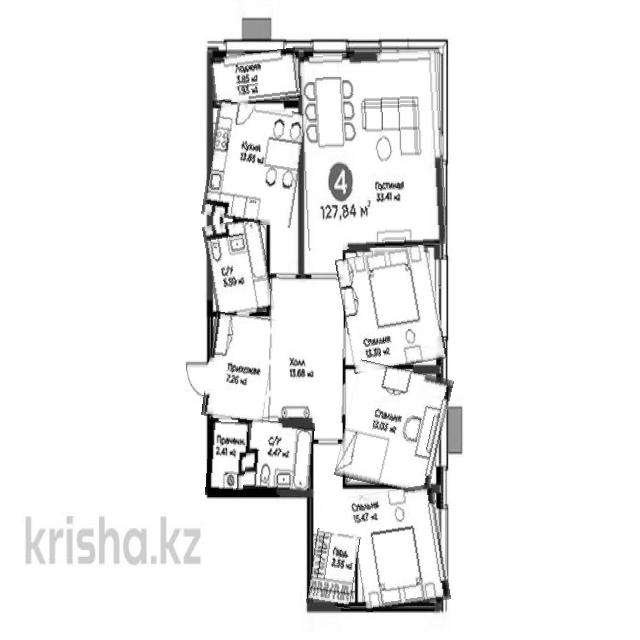balcony: (210, 50, 299, 106)
bathroom: (206, 220, 272, 318), (244, 420, 314, 496), (206, 421, 248, 497)
hallway: (268, 274, 344, 423), (205, 313, 273, 422)
kitchen: (205, 103, 304, 225)
living_room: (300, 51, 444, 250), (340, 364, 448, 491), (340, 248, 442, 370), (353, 486, 447, 609)
other: (309, 530, 359, 608)
